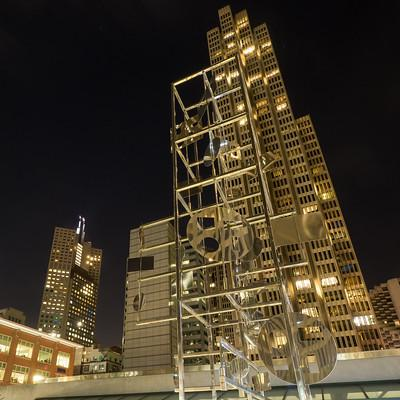building: (162, 4, 388, 398), (42, 224, 104, 354)
